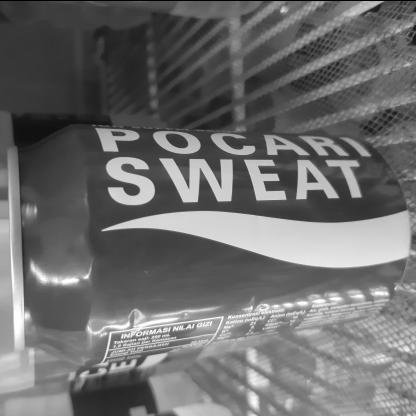alumunium_can: (6, 93, 412, 378)
